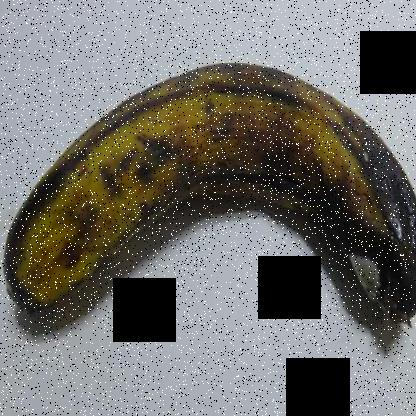overripe: (1, 47, 415, 356)
rotten: (333, 111, 415, 308)
